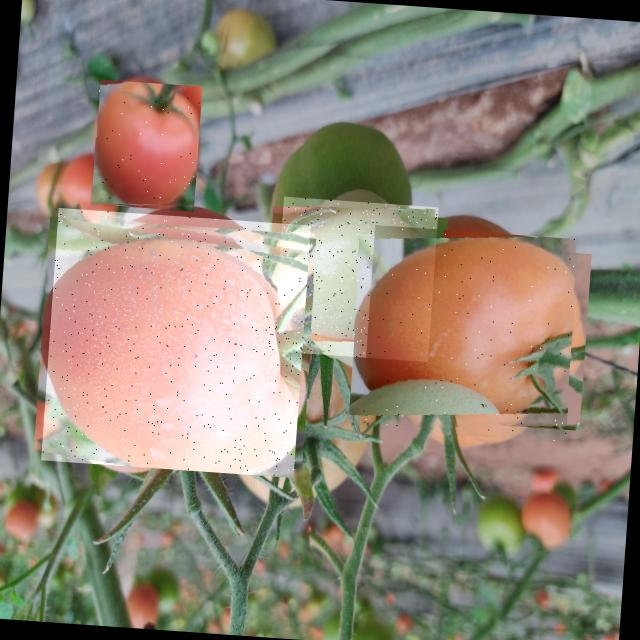Ripe Tomato: (41, 208, 310, 478), (360, 225, 580, 442), (90, 79, 203, 212)
Unripe Tomato: (273, 196, 438, 362)
